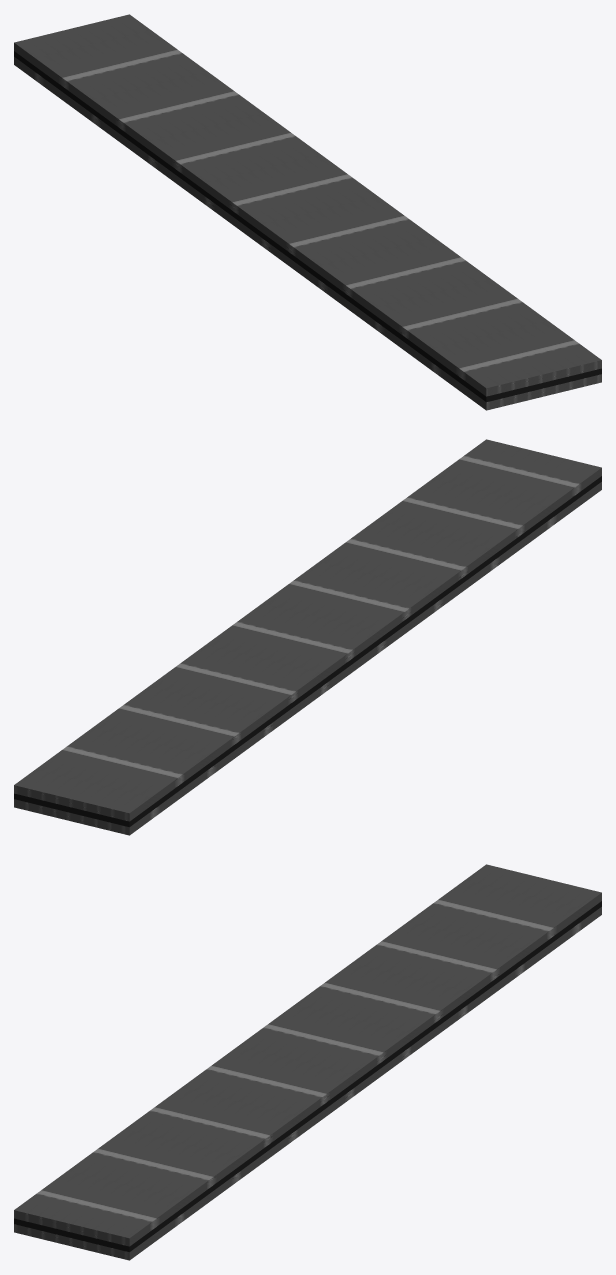
File: tapis roulant.fbx
3 views of the same model, one above another, from view 1: azimuth 30°, elevation 25°; view 2: azimuth 150°, elevation 25°; view 3: azimuth 330°, elevation 25° (orthographic).
Visible parts, largest first — view 1: Tapis roulant; view 2: Tapis roulant; view 3: Tapis roulant.
Boxes of the visible parts, <box> form: Tapis roulant: <box>14,14,601,410</box>; Tapis roulant: <box>14,439,601,835</box>; Tapis roulant: <box>14,864,601,1260</box>.
Bounding box in the file's own units: 200 × 36.79 × 1416.
